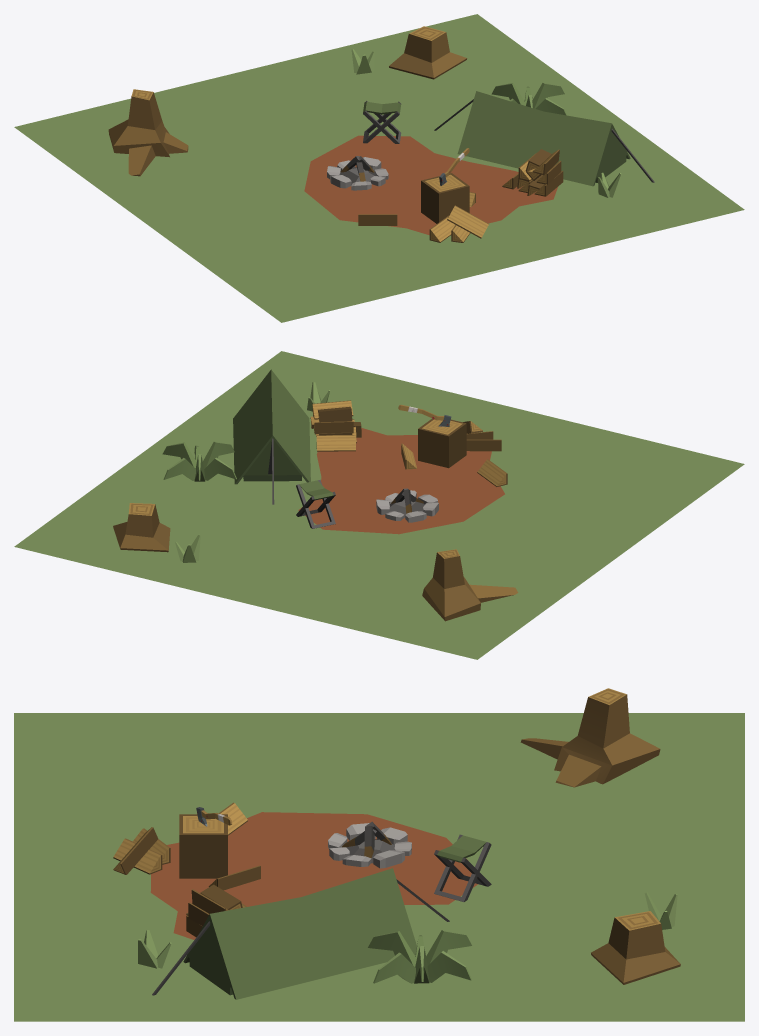
The model's file is SA_Env_Campsite_01.gltf.
The picture shows the model from 3 angles, top to bottom: view 1: azimuth 30°, elevation 25°; view 2: azimuth 150°, elevation 25°; view 3: azimuth 270°, elevation 25°; orthographic projection. The views are drawn at different scales.
Visible parts, largest first — view 1: SA_Env_Campsite_01; view 2: SA_Env_Campsite_01; view 3: SA_Env_Campsite_01.
Part boxes in pixels (x1,y1,x2,y2): SA_Env_Campsite_01: (14, 14, 744, 322); SA_Env_Campsite_01: (14, 351, 744, 659); SA_Env_Campsite_01: (14, 688, 744, 1021).
Size of the model in its own units: 15 by 1.8 by 15.
1 material, 1 textured.
